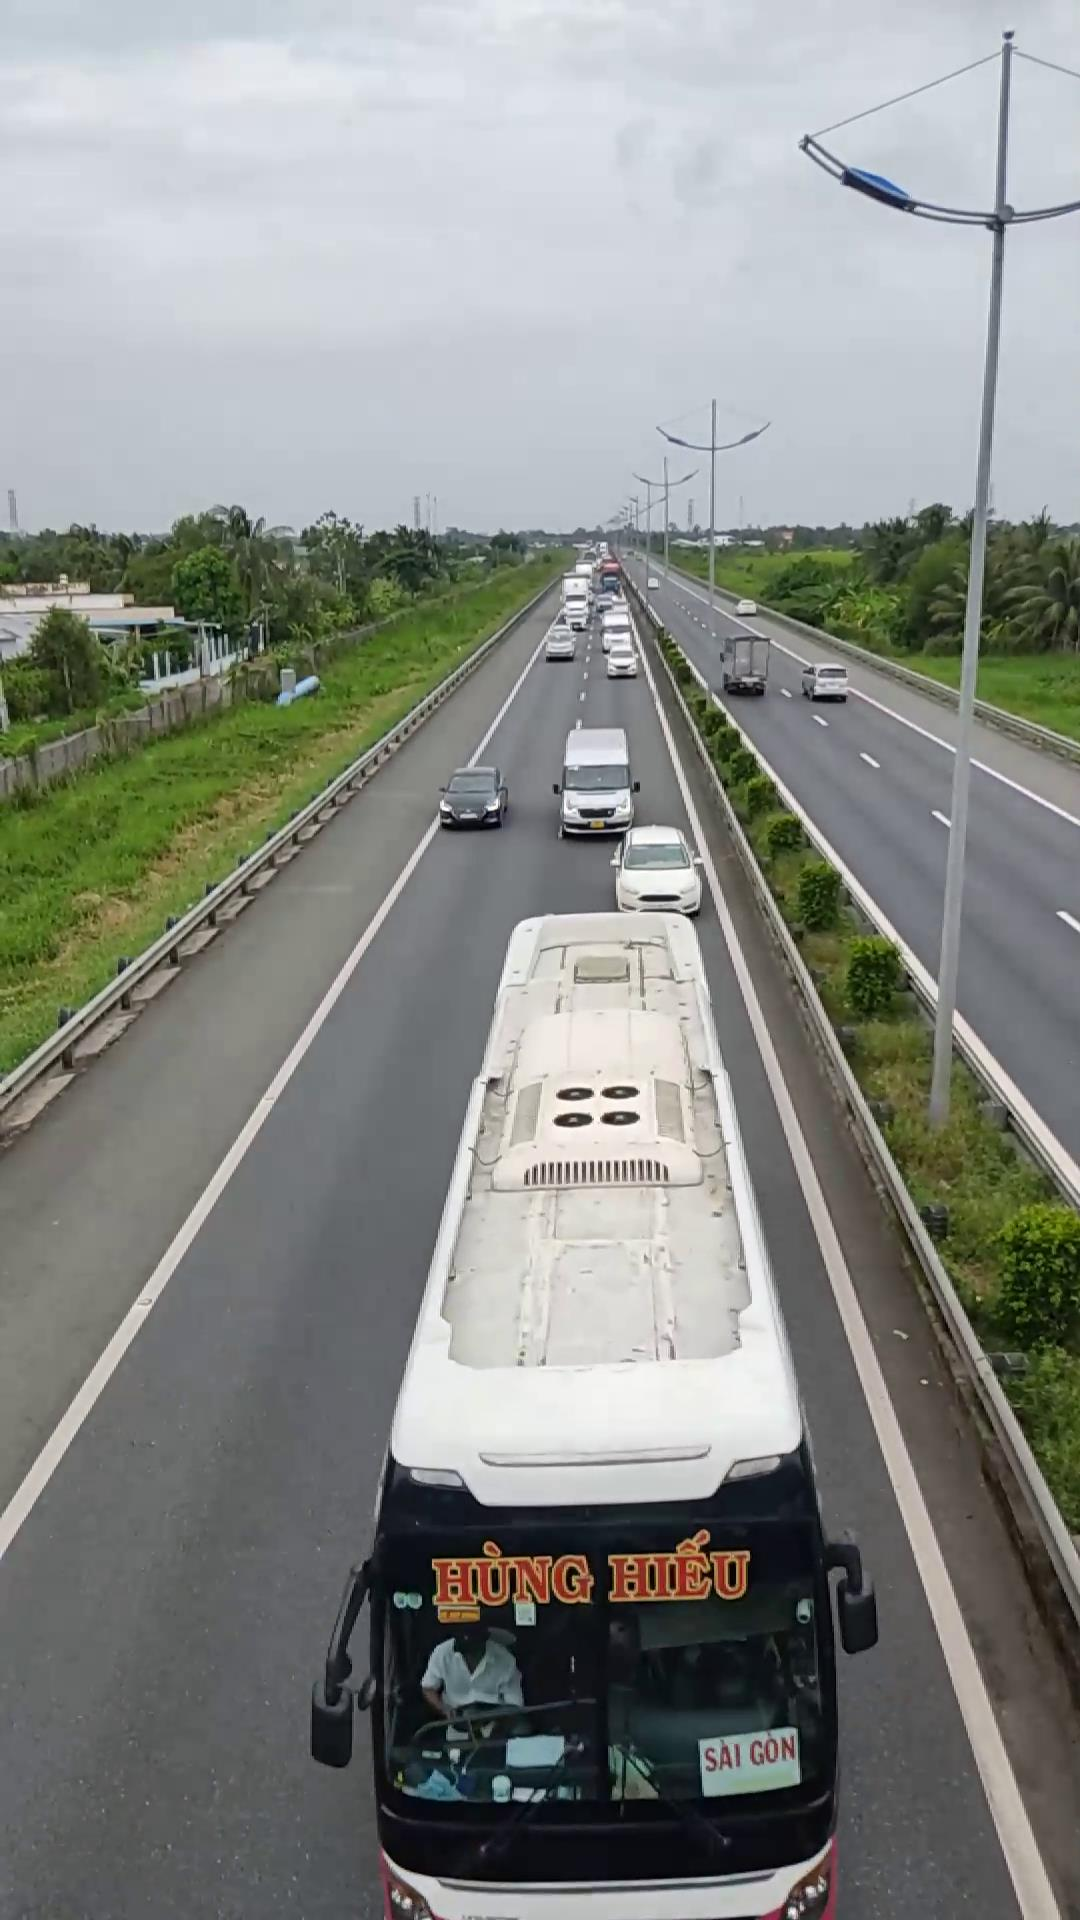bus: (367, 905, 853, 1912)
car: (555, 723, 638, 837), (438, 765, 509, 827)
